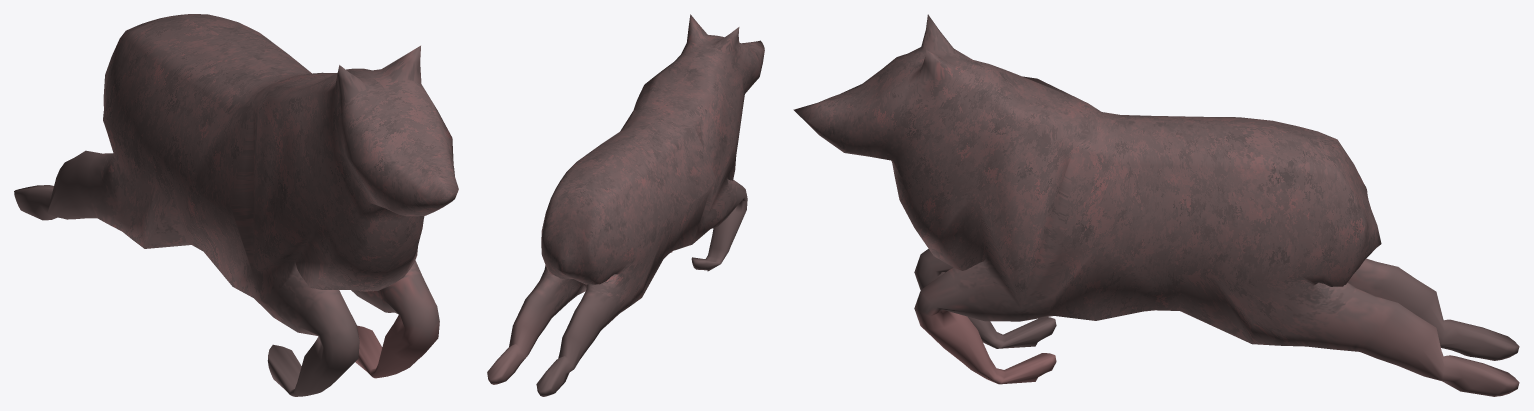
File: piesblend_000018.obj
3 views of the same model, side by side, from view 1: azimuth 30°, elevation 25°; view 2: azimuth 150°, elevation 25°; view 3: azimuth 270°, elevation 25° (orthographic). The views are drawn at different scales.
Parts seen in each view (by area): view 1: Cube; view 2: Cube; view 3: Cube.
Part boxes in pixels (<box>): Cube: <box>14,14,458,396</box>; Cube: <box>487,14,764,396</box>; Cube: <box>793,14,1519,396</box>.
Size of the model in its own units: 2.55 by 5.6 by 10.66.
Materials: 1 (1 with a texture image).
